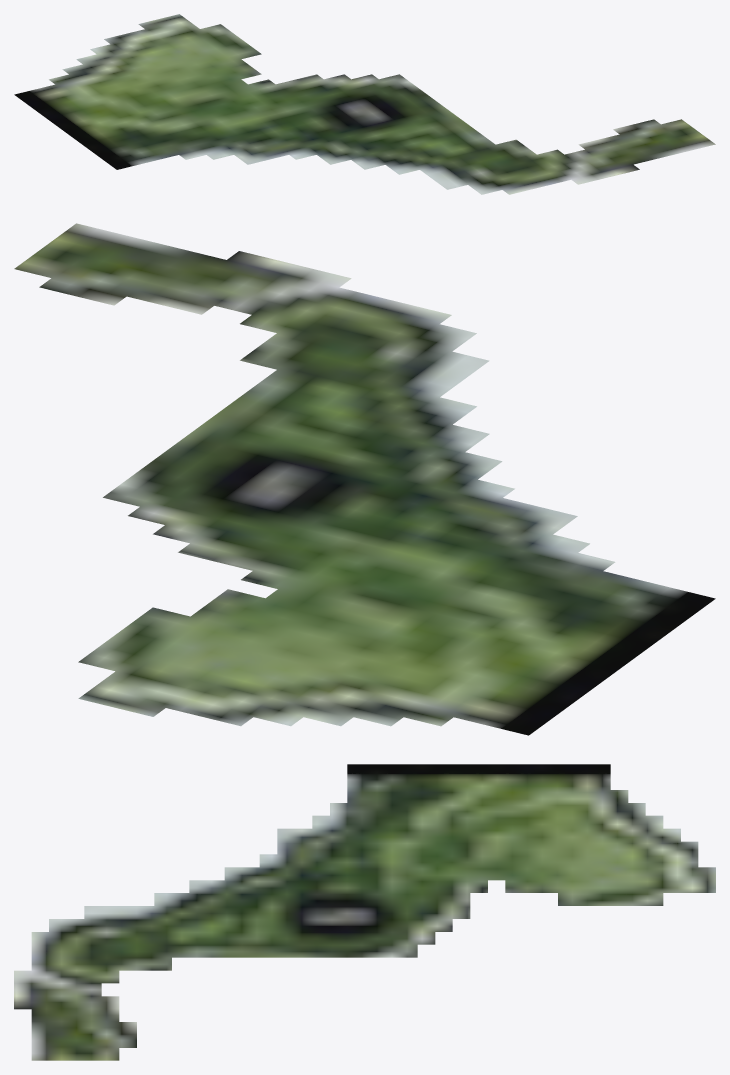
Rendered from panama.gltf.
3 views of the same model, one above another, from view 1: azimuth 30°, elevation 25°; view 2: azimuth 150°, elevation 25°; view 3: azimuth 270°, elevation 25° (orthographic). The views are drawn at different scales.
Parts seen in each view (by area): view 1: Plane; view 2: Plane; view 3: Plane.
Part boxes in pixels (left/top/right/bottom): Plane: left=14, top=14, right=715, bottom=194; Plane: left=14, top=223, right=715, bottom=735; Plane: left=14, top=764, right=715, bottom=1060.
Bounding box in the file's own units: 0.2271 × 0 × 0.2272.
Materials: 1 (1 with a texture image).
